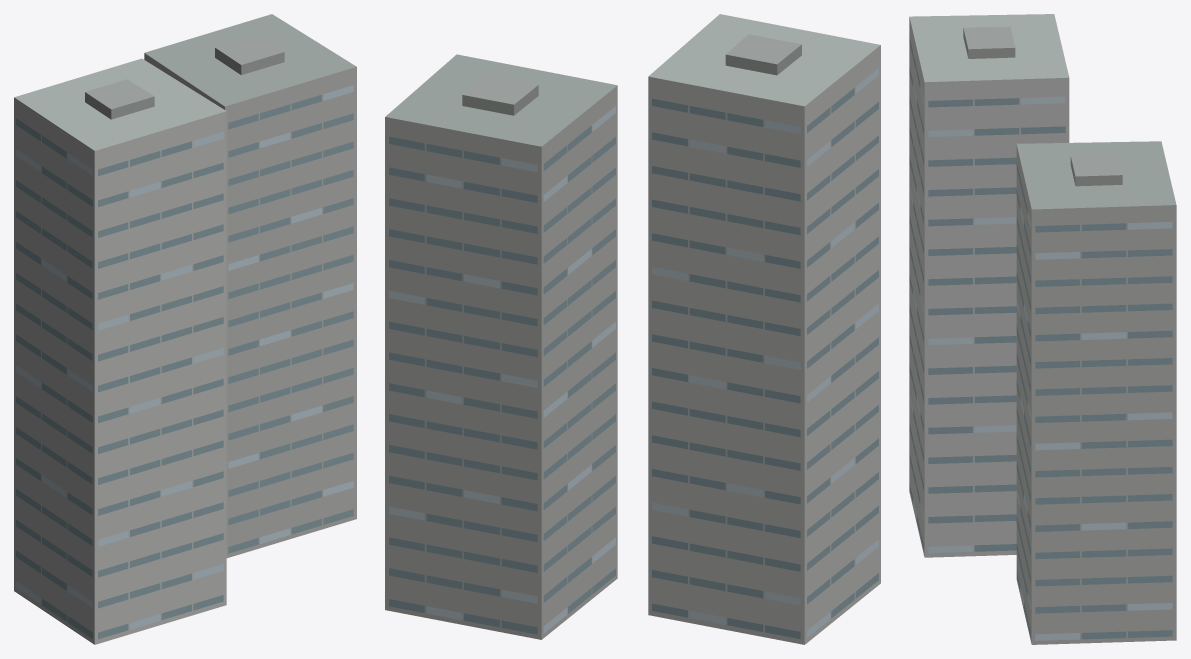
The model's file is apt-a10071301.glb.
3 renders of one model, left to right at view 1: azimuth 30°, elevation 25°; view 2: azimuth 150°, elevation 25°; view 3: azimuth 270°, elevation 25°, orthographic. The views are drawn at different scales.
Visible parts, largest first — view 1: apt-a10071301; view 2: apt-a10071301; view 3: apt-a10071301.
Part boxes in pixels (x1,y1,x2,y2): apt-a10071301: [14, 14, 356, 644]; apt-a10071301: [385, 14, 880, 644]; apt-a10071301: [909, 14, 1176, 644].
Bounding box in the file's own units: 81.62 × 119 × 59.24.
